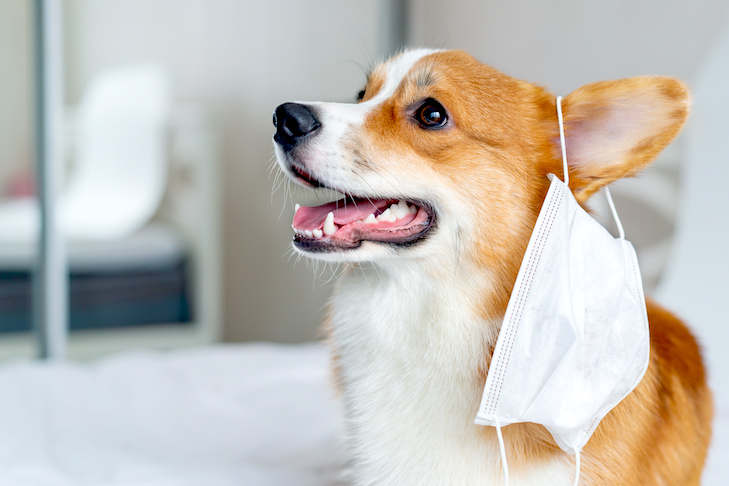pet: (271, 73, 592, 272)
